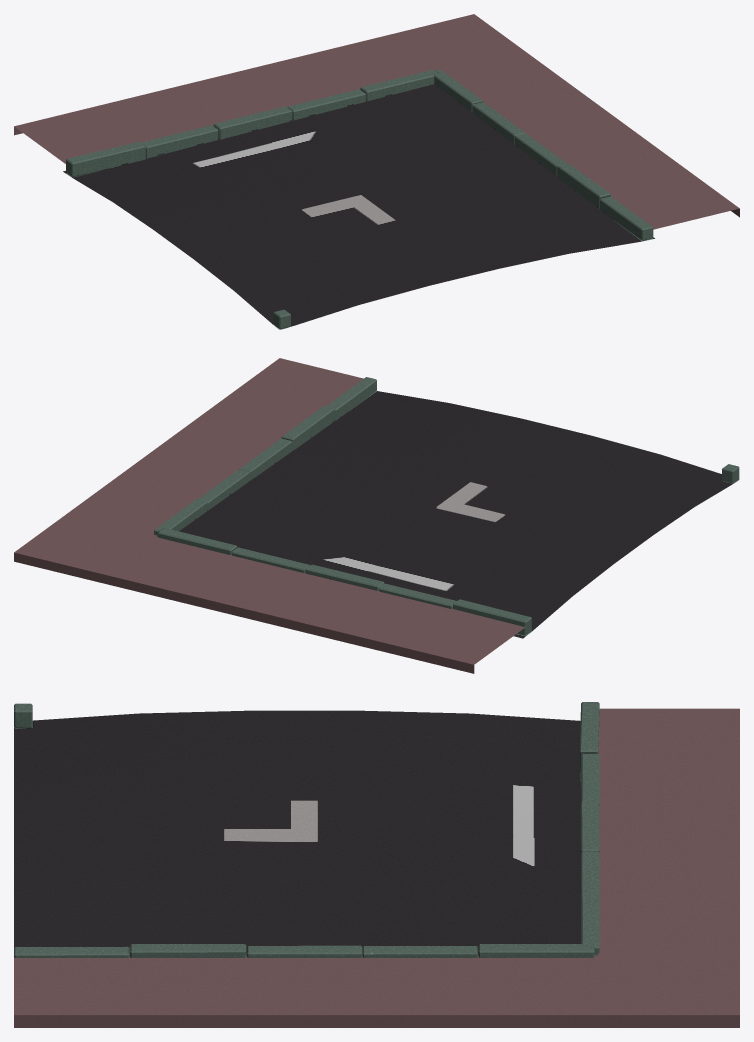
The model's file is road_turn_LOD0.fbx.
The picture shows the model from 3 angles, top to bottom: view 1: azimuth 30°, elevation 25°; view 2: azimuth 150°, elevation 25°; view 3: azimuth 270°, elevation 25°; orthographic projection. The views are drawn at different scales.
Parts seen in each view (by area): view 1: road_turn_LOD0; view 2: road_turn_LOD0; view 3: road_turn_LOD0.
Part boxes in pixels (x1,y1,x2,y2): road_turn_LOD0: [14, 14, 739, 329]; road_turn_LOD0: [14, 358, 739, 673]; road_turn_LOD0: [14, 702, 739, 1027].
Bounding box in the file's own units: 1000 × 30.72 × 1000.
